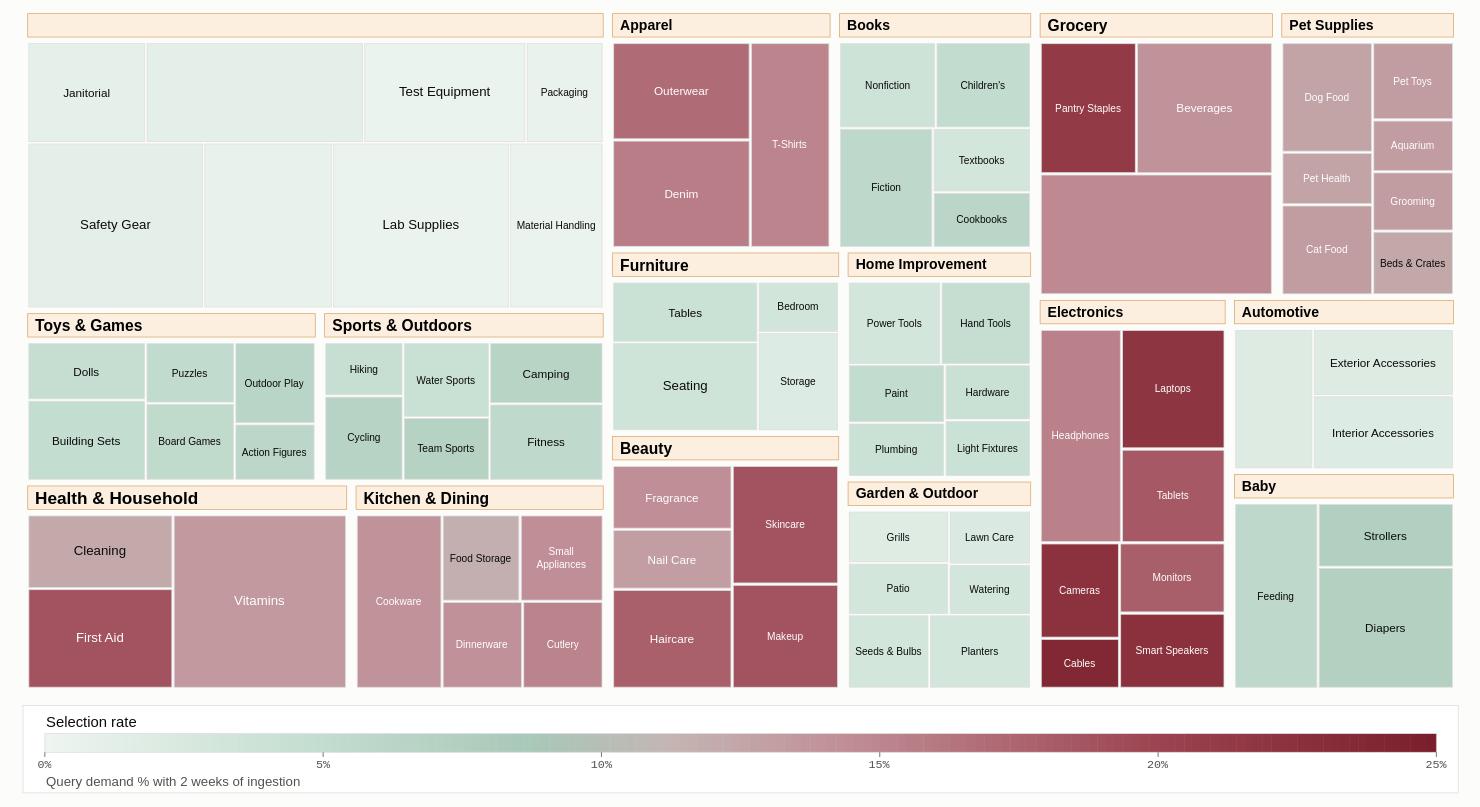
The diagram is 1480 pixels wide and 807 high, and some of its shapes have lost their labels. Each missing label, with the box of its shape:
Abrasives: (146, 43, 362, 142)
Bulk Fasteners: (204, 143, 331, 307)
Car Care: (1235, 330, 1312, 468)
Industrial & Scientific: (27, 13, 603, 37)
Snacks: (1041, 174, 1271, 294)
